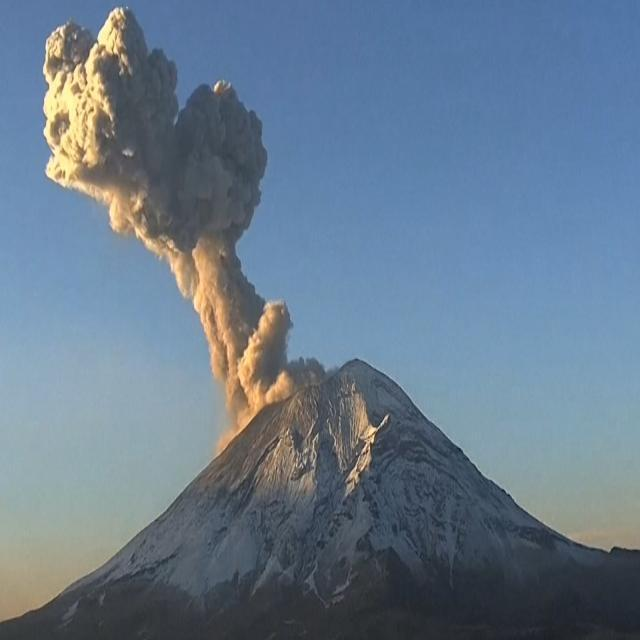Smoke: (43, 3, 327, 414)
